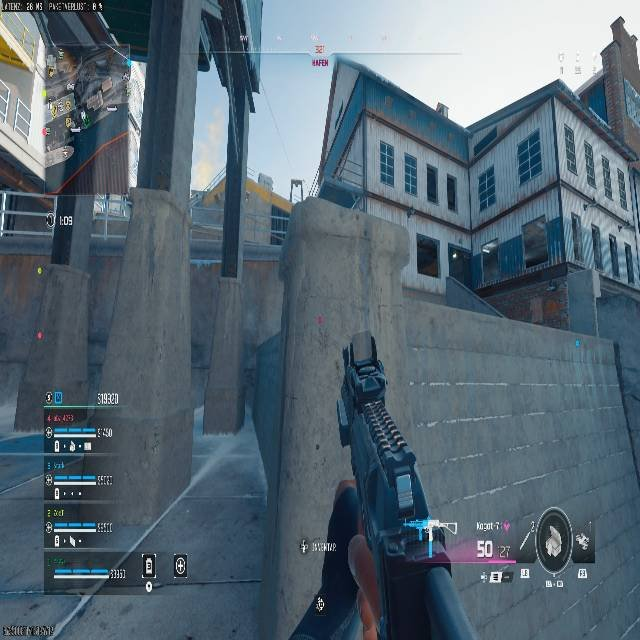player: (1, 7, 130, 188)
